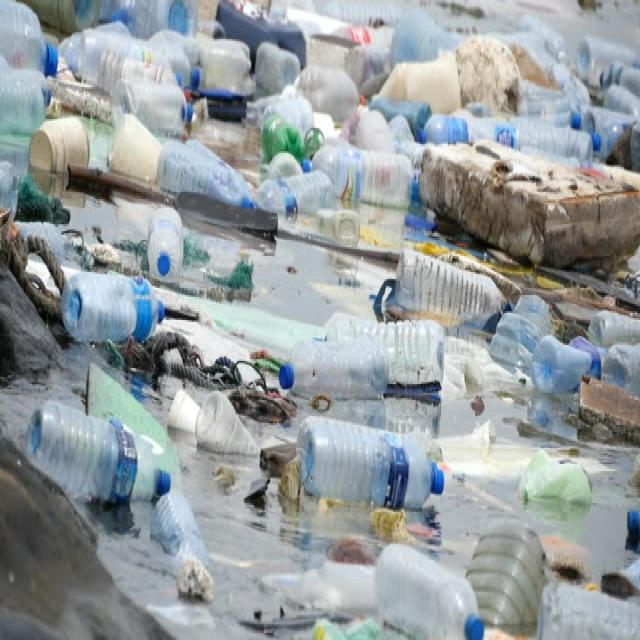plastic: (82, 217, 627, 613)
